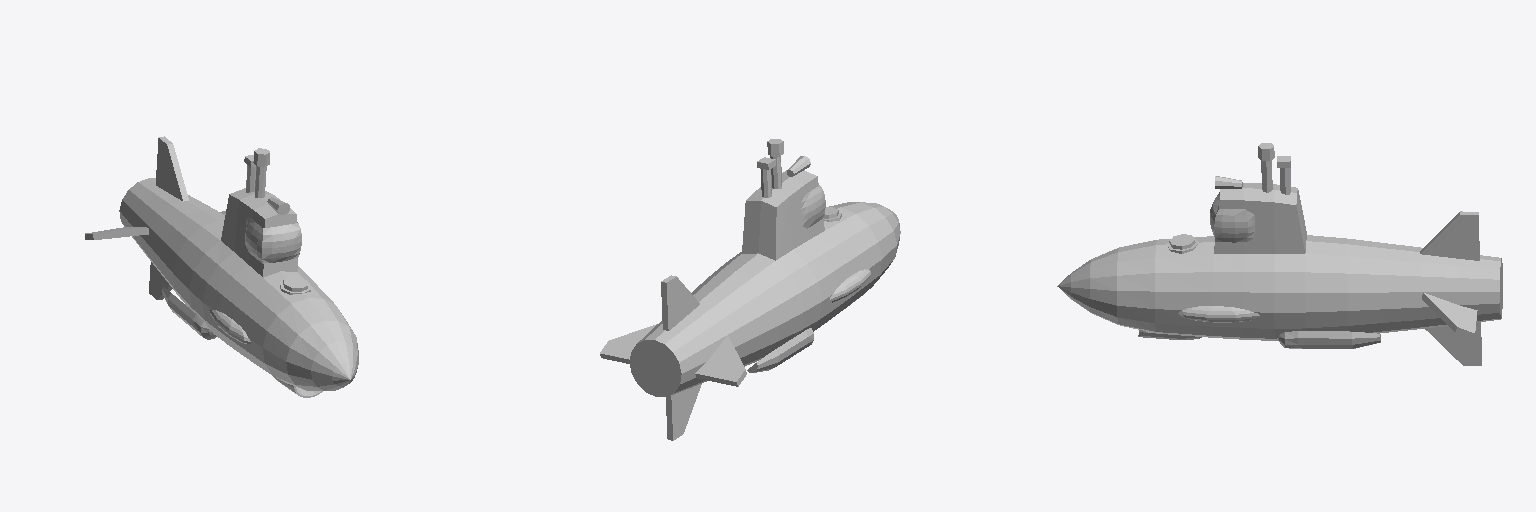
File: OrcaSub.obj
3 views of the same model, side by side, from view 1: azimuth 30°, elevation 25°; view 2: azimuth 150°, elevation 25°; view 3: azimuth 270°, elevation 25° (orthographic).
Visible parts, largest first — view 1: Inst3D12_RefRep.268; view 2: Inst3D12_RefRep.268; view 3: Inst3D12_RefRep.268.
Boxes of the visible parts, x1=… form: Inst3D12_RefRep.268: x1=85, y1=136, x2=358, y2=397; Inst3D12_RefRep.268: x1=600, y1=139, x2=900, y2=440; Inst3D12_RefRep.268: x1=1057, y1=143, x2=1502, y2=365.
Bounding box in the file's own units: 2.78 × 4.13 × 7.59.